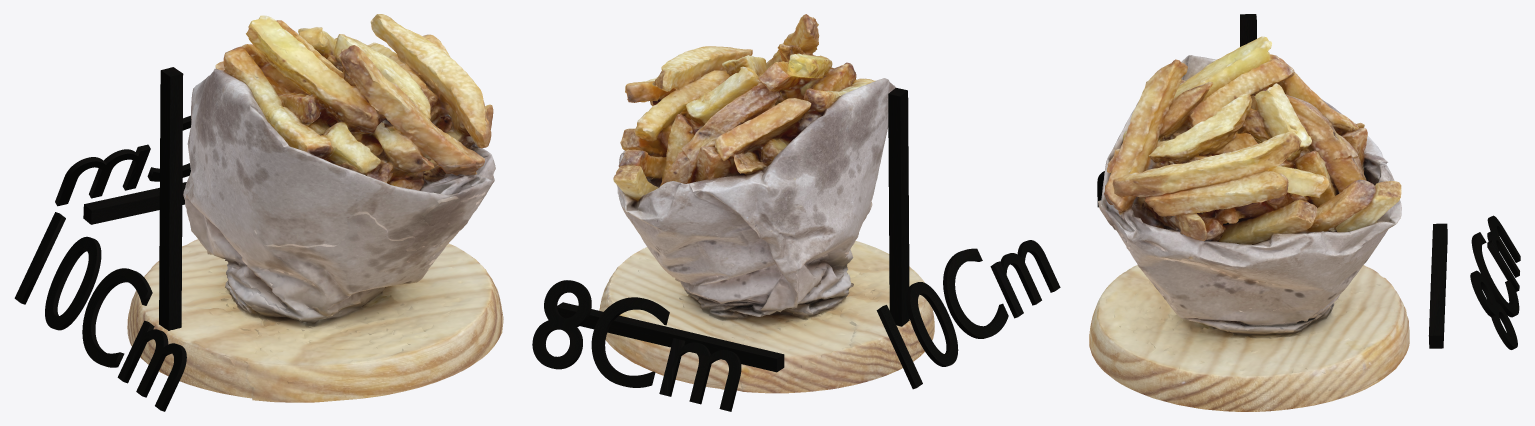
File: fries.glb
3 renders of one model, left to right at view 1: azimuth 30°, elevation 25°; view 2: azimuth 150°, elevation 25°; view 3: azimuth 270°, elevation 25°, orthographic. The views are drawn at different scales.
Visible parts, largest first — view 1: Object_4, Text, Cube, Text.001, Cube.001; view 2: Object_4, Text.001, Text, Cube, Cube.001; view 3: Object_4, Text.001, Cube.001, Cube.
Boxes of the visible parts, bbox=[...] form: Object_4: bbox=[127, 14, 503, 402]; Text: bbox=[14, 212, 186, 411]; Cube: bbox=[159, 67, 183, 330]; Text.001: bbox=[55, 115, 191, 206]; Cube.001: bbox=[83, 182, 186, 224]; Object_4: bbox=[599, 14, 934, 393]; Text.001: bbox=[532, 280, 741, 411]; Text: bbox=[876, 240, 1060, 389]; Cube: bbox=[888, 88, 909, 326]; Cube.001: bbox=[557, 302, 784, 372]; Object_4: bbox=[1089, 36, 1409, 411]; Text.001: bbox=[1470, 215, 1520, 349]; Cube.001: bbox=[1428, 223, 1447, 348]; Cube: bbox=[1240, 14, 1256, 46].
Size of the model in its own units: 0.1556 by 0.1153 by 0.1605.
5 materials, 5 textured.
